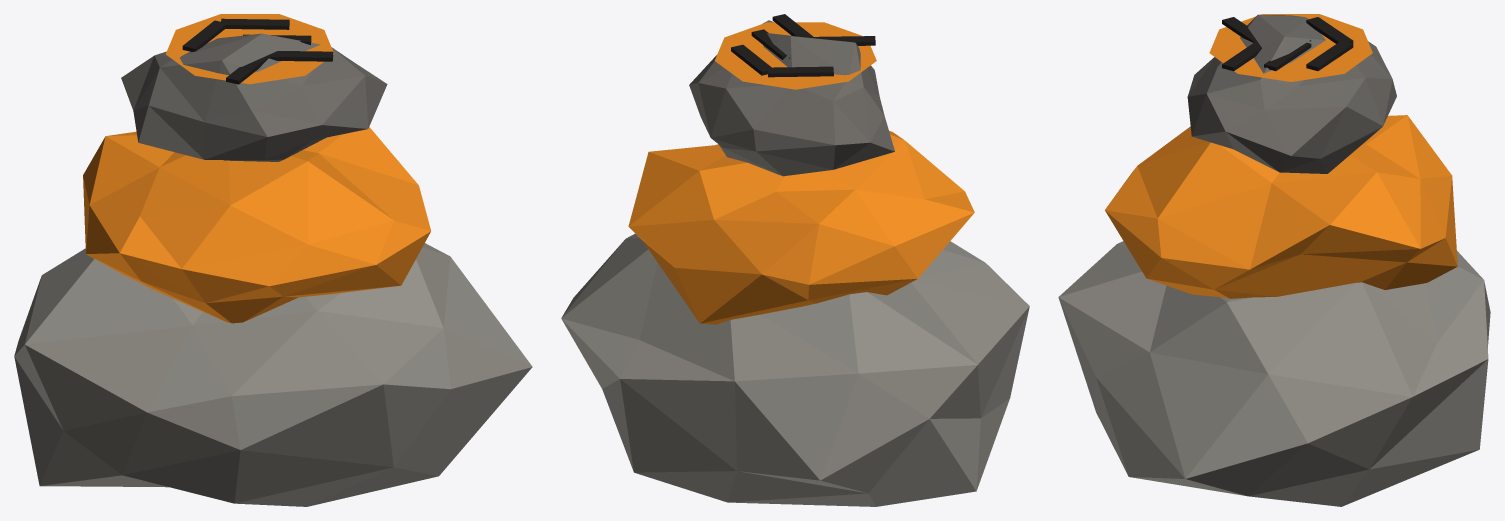
Rendered from marker_colonie.glb.
The picture shows the model from 3 angles, left to right: view 1: azimuth 30°, elevation 25°; view 2: azimuth 150°, elevation 25°; view 3: azimuth 270°, elevation 25°; orthographic projection. The views are drawn at different scales.
Parts seen in each view (by area): view 1: pebble (×3), marker_colonie; view 2: pebble (×3), marker_colonie; view 3: pebble (×3), marker_colonie.
Boxes of the visible parts, x1,y1,x2,y2 form: pebble (×3): (14,33,532,506); marker_colonie: (166,14,334,84); pebble (×3): (561,20,1029,506); marker_colonie: (714,14,876,89); pebble (×3): (1058,14,1490,506); marker_colonie: (1209,14,1372,81).
Size of the model in its own units: 7.63 by 7.49 by 6.76.
